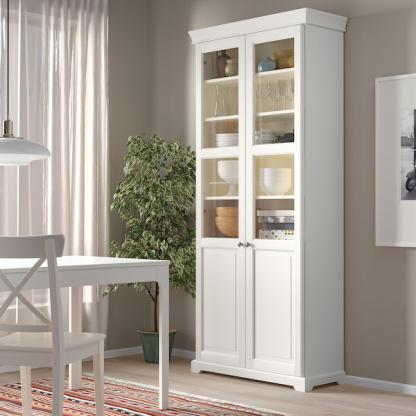lamp: (186, 5, 350, 393)
